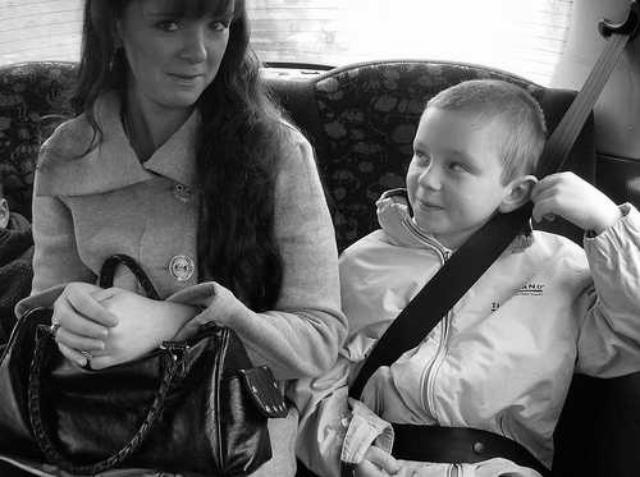SafeDriving: (150, 12, 192, 37), (441, 154, 474, 178), (200, 12, 232, 36), (410, 146, 434, 168)
Seatbelt: (344, 13, 640, 470)
